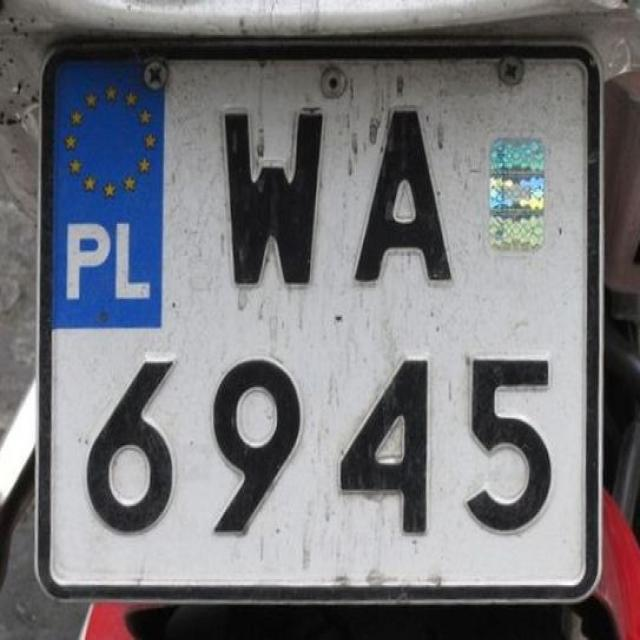pl_license_plate: (48, 51, 593, 592)
